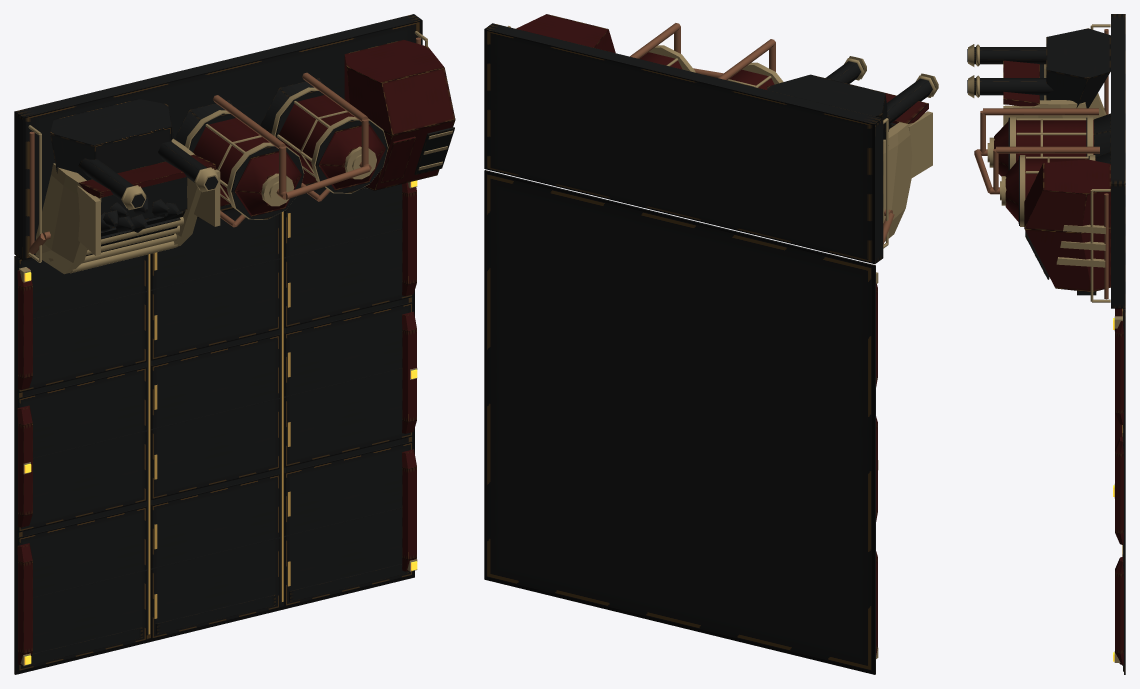
The model's file is refinery-low.glb.
The picture shows the model from 3 angles, left to right: view 1: azimuth 30°, elevation 25°; view 2: azimuth 150°, elevation 25°; view 3: azimuth 270°, elevation 25°; orthographic projection. The views are drawn at different scales.
Visible parts, largest first — view 1: refinery-root.001 / Riveted iron.001, refinery-root.001 / Burgundy enamel.001, refinery-root.001 / Machined brass.001, refinery-root.001 / Copper feed lines.001, refinery-root.001 / Ore gold / optics.001; view 2: refinery-root.001 / Riveted iron.001, refinery-root.001 / Machined brass.001, refinery-root.001 / Burgundy enamel.001, refinery-root.001 / Copper feed lines.001; view 3: refinery-root.001 / Burgundy enamel.001, refinery-root.001 / Riveted iron.001, refinery-root.001 / Machined brass.001, refinery-root.001 / Copper feed lines.001.
Boxes of the visible parts, left/top/right/bottom form: refinery-root.001 / Riveted iron.001: left=14, top=14, right=454, bottom=674; refinery-root.001 / Burgundy enamel.001: left=17, top=39, right=455, bottom=665; refinery-root.001 / Machined brass.001: left=19, top=31, right=452, bottom=665; refinery-root.001 / Copper feed lines.001: left=29, top=37, right=420, bottom=254; refinery-root.001 / Ore gold / optics.001: left=148, top=211, right=290, bottom=634; refinery-root.001 / Riveted iron.001: left=484, top=23, right=935, bottom=674; refinery-root.001 / Machined brass.001: left=507, top=26, right=938, bottom=658; refinery-root.001 / Burgundy enamel.001: left=516, top=14, right=928, bottom=656; refinery-root.001 / Copper feed lines.001: left=630, top=23, right=894, bottom=244; refinery-root.001 / Burgundy enamel.001: left=994, top=60, right=1123, bottom=664; refinery-root.001 / Riveted iron.001: left=967, top=14, right=1125, bottom=674; refinery-root.001 / Machined brass.001: left=968, top=24, right=1122, bottom=662; refinery-root.001 / Copper feed lines.001: left=974, top=29, right=1108, bottom=299.
Bounding box in the file's own units: 12 × 16.15 × 4.72.
Materials: 7 (2 with a texture image).
